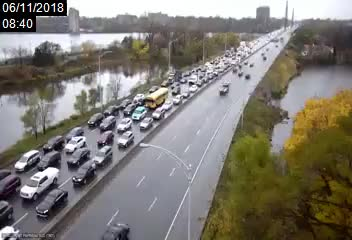congestion: (1, 122, 138, 237), (82, 92, 180, 136), (153, 69, 208, 96), (191, 57, 232, 76), (217, 46, 253, 63)
personal_car: (21, 166, 60, 199), (36, 189, 68, 219), (15, 149, 41, 171), (1, 169, 20, 199), (102, 222, 132, 240), (1, 218, 24, 239), (74, 162, 94, 186), (38, 150, 62, 170), (93, 144, 113, 166), (68, 148, 89, 167), (43, 135, 64, 153), (66, 136, 86, 154), (117, 131, 134, 148), (98, 115, 116, 131), (1, 201, 13, 224), (98, 130, 114, 146), (131, 105, 147, 120), (66, 127, 84, 140), (140, 116, 153, 132), (86, 113, 103, 125), (104, 104, 120, 116), (219, 81, 231, 96), (152, 106, 165, 119), (124, 104, 137, 115), (180, 87, 191, 98), (172, 94, 182, 104), (162, 100, 172, 110), (148, 84, 158, 94), (134, 92, 143, 102), (121, 99, 131, 108), (188, 75, 197, 84), (189, 84, 197, 93), (206, 73, 215, 80), (184, 70, 192, 77), (198, 71, 205, 79), (171, 81, 179, 88), (172, 87, 179, 95), (196, 80, 202, 88), (179, 77, 186, 83), (161, 80, 167, 87), (245, 74, 251, 80), (238, 71, 243, 77)
school_bus: (145, 88, 169, 110)
truck: (167, 71, 183, 84)
